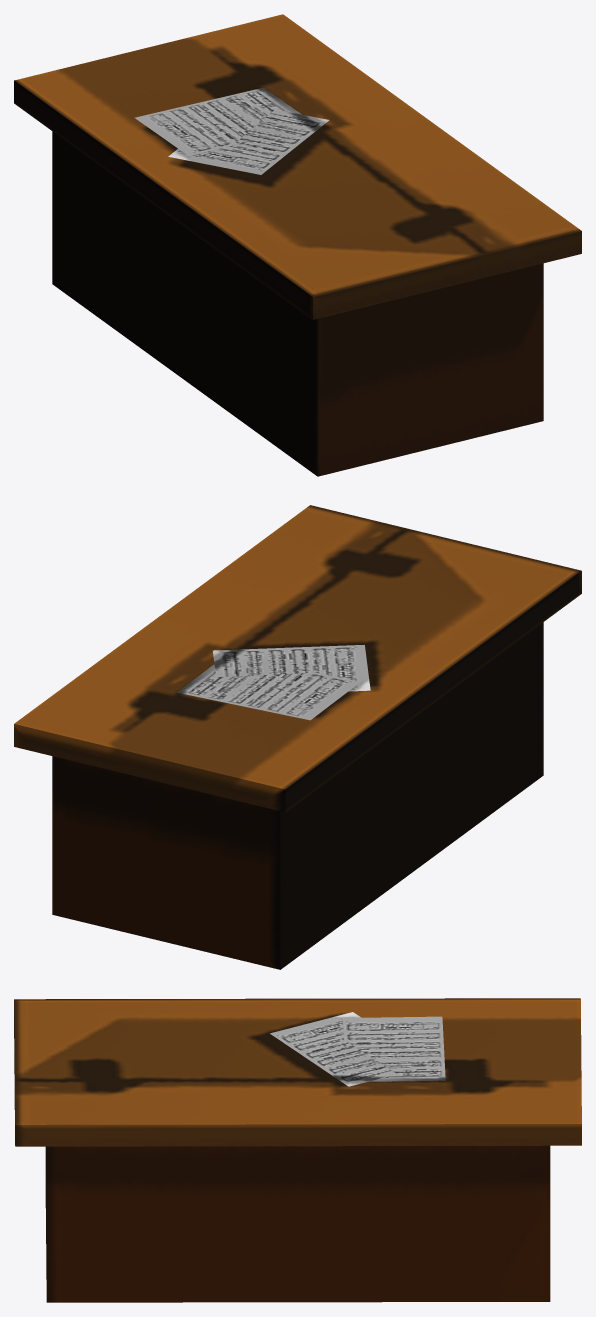
Rendered from Tx_Props_Table_MusicDept.fbx.
3 renders of one model, top to bottom at view 1: azimuth 30°, elevation 25°; view 2: azimuth 150°, elevation 25°; view 3: azimuth 270°, elevation 25°, orthographic. The views are drawn at different scales.
Visible parts, largest first — view 1: Tx_Props_Table_MusicDept; view 2: Tx_Props_Table_MusicDept; view 3: Tx_Props_Table_MusicDept.
Part boxes in pixels (bbox=[...]): Tx_Props_Table_MusicDept: bbox=[14, 14, 581, 476]; Tx_Props_Table_MusicDept: bbox=[14, 505, 581, 969]; Tx_Props_Table_MusicDept: bbox=[14, 998, 581, 1302].
Size of the model in its own units: 5.45 by 3.85 by 10.33.
